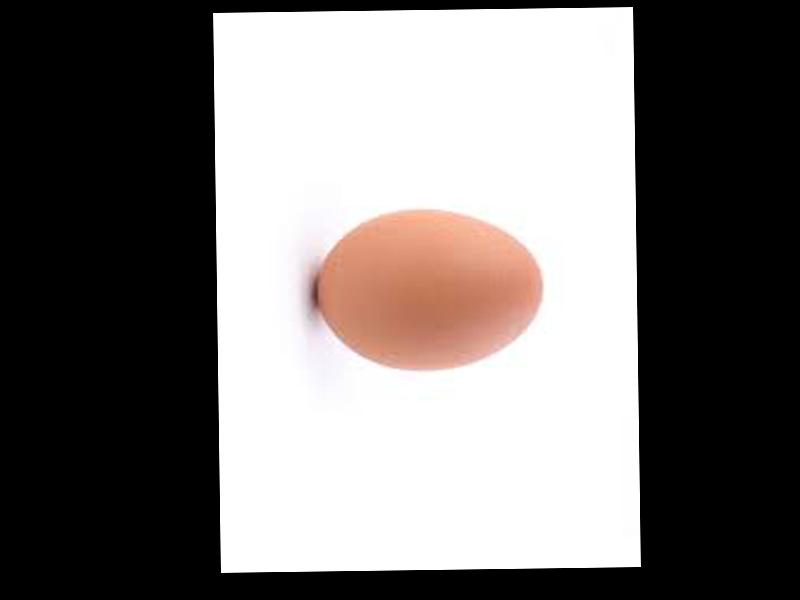Eggs: (316, 210, 545, 374)
